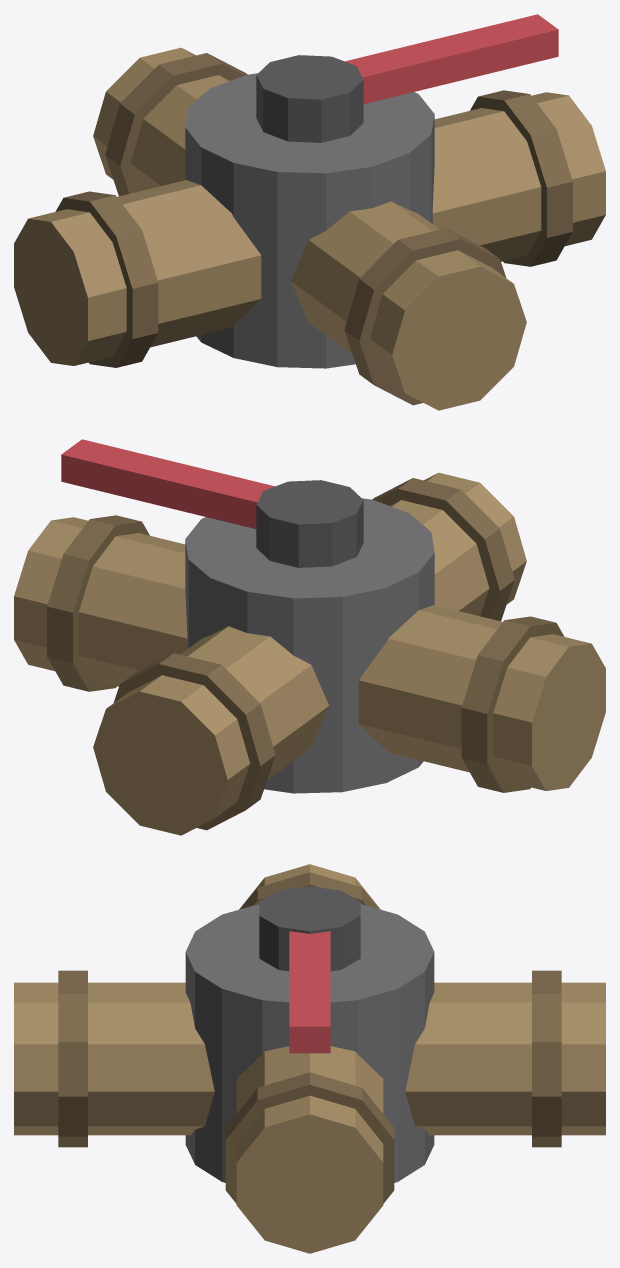
Rendered from vge_oxygen_valve_off.obj.
The picture shows the model from 3 angles, top to bottom: view 1: azimuth 30°, elevation 25°; view 2: azimuth 150°, elevation 25°; view 3: azimuth 270°, elevation 25°; orthographic projection.
Parts seen in each view (by area): view 1: vge_oxygen_valve_off_0, vge_oxygen_valve_off_6, vge_oxygen_valve_off_1, vge_oxygen_valve_off_8, vge_oxygen_valve_off_7, vge_oxygen_valve_off_2, vge_oxygen_valve_off_4, vge_oxygen_valve_off_3, vge_oxygen_valve_off_5; view 2: vge_oxygen_valve_off_0, vge_oxygen_valve_off_6, vge_oxygen_valve_off_1, vge_oxygen_valve_off_8, vge_oxygen_valve_off_7, vge_oxygen_valve_off_2, vge_oxygen_valve_off_4, vge_oxygen_valve_off_5, vge_oxygen_valve_off_3; view 3: vge_oxygen_valve_off_1, vge_oxygen_valve_off_6, vge_oxygen_valve_off_0, vge_oxygen_valve_off_7, vge_oxygen_valve_off_4, vge_oxygen_valve_off_3, vge_oxygen_valve_off_5, vge_oxygen_valve_off_8, vge_oxygen_valve_off_2.
Boxes of the visible parts, x1,y1,x2,y2 form: vge_oxygen_valve_off_0: [14, 92, 605, 365]; vge_oxygen_valve_off_6: [185, 73, 434, 368]; vge_oxygen_valve_off_1: [93, 47, 526, 410]; vge_oxygen_valve_off_8: [345, 14, 558, 103]; vge_oxygen_valve_off_7: [256, 55, 363, 142]; vge_oxygen_valve_off_2: [55, 191, 158, 367]; vge_oxygen_valve_off_4: [470, 90, 572, 266]; vge_oxygen_valve_off_3: [344, 228, 506, 405]; vge_oxygen_valve_off_5: [105, 53, 247, 196]; vge_oxygen_valve_off_0: [14, 517, 605, 790]; vge_oxygen_valve_off_6: [185, 498, 434, 793]; vge_oxygen_valve_off_1: [93, 472, 526, 835]; vge_oxygen_valve_off_8: [61, 439, 274, 528]; vge_oxygen_valve_off_7: [256, 480, 363, 567]; vge_oxygen_valve_off_2: [461, 616, 564, 792]; vge_oxygen_valve_off_4: [47, 515, 149, 691]; vge_oxygen_valve_off_5: [113, 653, 275, 830]; vge_oxygen_valve_off_3: [372, 478, 514, 621]; vge_oxygen_valve_off_1: [14, 982, 605, 1135]; vge_oxygen_valve_off_6: [185, 904, 434, 1182]; vge_oxygen_valve_off_0: [236, 864, 383, 1253]; vge_oxygen_valve_off_7: [259, 886, 360, 971]; vge_oxygen_valve_off_4: [225, 1072, 394, 1203]; vge_oxygen_valve_off_3: [58, 970, 87, 1147]; vge_oxygen_valve_off_5: [532, 970, 561, 1147]; vge_oxygen_valve_off_8: [289, 931, 330, 1053]; vge_oxygen_valve_off_2: [240, 872, 379, 909].
Size of the model in its own units: 1 by 0.44 by 1.
